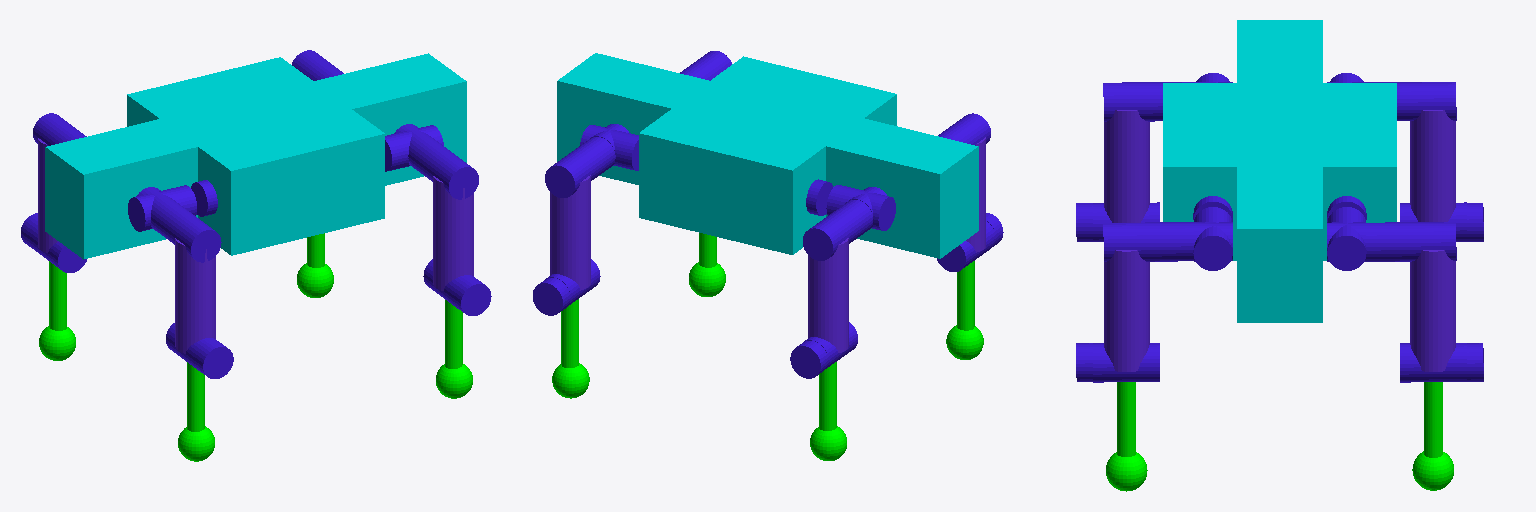
--- Facts derived from the render (not from the file) ---
3 views of the same robot in one strip: view 1: azimuth 30°, elevation 25°; view 2: azimuth 150°, elevation 25°; view 3: azimuth 270°, elevation 25° (orthographic).
Model openMutt with 46 links and 45 joints (12 revolute, 33 fixed), rooted at base_link, posed all joints at 0.
Visible links, largest first — view 1: base_link, dogBodyCross, backRightFemur, frontRightFemur, frontRightHipRotateY, backRightHipRotateY, backRightHipRotateX, backRightShin, backLeftShin, frontRightShin, frontRightHipRotateX, backRightKneeClevis (+13 smaller); view 2: base_link, dogBodyCross, backLeftFemur, frontLeftFemur, frontLeftHipRotateY, backLeftHipRotateY, backLeftHipRotateX, frontLeftHipRotateX, backRightShin, backLeftShin, frontLeftShin, backLeftKneeClevis (+13 smaller); view 3: base_link, dogBodyCross, frontLeftFemur, frontRightFemur, backRightFemur, backLeftFemur, frontRightHipRotateY, frontLeftHipRotateY, backRightHipRotateY, backLeftHipRotateY, frontLeftHipRotateX, frontRightHipRotateX (+12 smaller).
Link boxes in pixels (<box>): base_link: <box>45,53,466,259</box>; dogBodyCross: <box>127,57,384,255</box>; backRightFemur: <box>175,238,215,353</box>; frontRightFemur: <box>433,176,473,290</box>; frontRightHipRotateY: <box>408,129,478,199</box>; backRightHipRotateY: <box>151,192,221,262</box>; backRightHipRotateX: <box>128,185,196,231</box>; backRightShin: <box>187,362,204,431</box>; backLeftShin: <box>49,261,66,330</box>; frontRightShin: <box>445,300,462,368</box>; frontRightHipRotateX: <box>385,125,443,171</box>; backRightKneeClevis: <box>196,341,233,378</box>; base_link: <box>557,53,978,258</box>; dogBodyCross: <box>639,56,896,254</box>; backLeftFemur: <box>808,238,848,352</box>; frontLeftFemur: <box>550,175,590,290</box>; frontLeftHipRotateY: <box>545,137,615,197</box>; backLeftHipRotateY: <box>803,200,872,260</box>; backLeftHipRotateX: <box>826,185,895,230</box>; frontLeftHipRotateX: <box>580,125,638,170</box>; backRightShin: <box>957,261,974,330</box>; backLeftShin: <box>819,362,836,430</box>; frontLeftShin: <box>561,299,578,367</box>; backLeftKneeClevis: <box>790,341,827,378</box>; base_link: <box>1237,20,1322,322</box>; dogBodyCross: <box>1163,83,1396,260</box>; frontLeftFemur: <box>1410,250,1455,371</box>; frontRightFemur: <box>1104,250,1149,371</box>; backRightFemur: <box>1104,110,1149,222</box>; backLeftFemur: <box>1410,110,1455,221</box>; frontRightHipRotateY: <box>1103,222,1215,261</box>; frontLeftHipRotateY: <box>1364,222,1456,261</box>; backRightHipRotateY: <box>1103,82,1215,121</box>; backLeftHipRotateY: <box>1366,82,1456,120</box>; frontLeftHipRotateX: <box>1327,207,1366,270</box>; frontRightHipRotateX: <box>1193,207,1232,270</box>.
Bounding box of the posed robot: 0.752 × 0.6216 × 0.4955 m (x, y, z).
0 mesh visuals loaded from 2 distinct referenced files (none loaded); not drawn: 2 (reference not matched to a file when rendering).

URDF robot description (openMutt):
<?xml version="1.0" ?>
<!-- =================================================================================== -->
<!-- |    This document was autogenerated by xacro from RoboFrencwfShinWalker.urdf.xacro | -->
<!-- |    EDITING THIS FILE BY HAND IS NOT RECOMMENDED                                 | -->
<!-- =================================================================================== -->
<robot name="openMutt">
  <!-- DAWG BODY -->
  <!-- DAWG BODY LAWNG -->
  <link name="base_link">
    <visual>
      <origin rpy="0 0 0" xyz="0 0 0"/>
      <axis xyz="0 0 0"/>
      <geometry>
        <box size="0.752 0.13 0.159"/>
      </geometry>
      <material name="c">
        <color rgba="0 0.9 0.9 1.0"/>
      </material>
    </visual>
    <collision>
      <origin rpy="0 0 0" xyz="0 0 0"/>
      <axis xyz="0 0 0"/>
      <geometry>
        <box size="0.752 0.13 0.159"/>
      </geometry>
    </collision>
  </link>
  <link name="faux_base_link">
    <inertial>
      <mass value="7"/>
      <inertia ixx=".0246" ixy="0.0" ixz="0.0" iyy=".345" iyz="0.0" izz="1.0"/>
      <origin rpy="0 0 0" xyz="0 0 0"/>
    </inertial>
  </link>
  <joint name="baseInertia" type="fixed">
    <parent link="base_link"/>
    <child link="faux_base_link"/>
    <origin rpy="0 0 0" xyz="0 0 0"/>
  </joint>
  <!-- DAWG BODY CHONK -->
  <link name="dogBodyCross">
    <inertial>
      <mass value="0.4"/>
      <inertia ixx="0.005067233333333333" ixy="0.0" ixz="0.0" iyy="0.003882833333333333" iyz="0.0" izz="0.007264666666666666"/>
    </inertial>
    <visual>
      <origin rpy="0 0 0" xyz="0 0 0"/>
      <axis xyz="0 0 0"/>
      <geometry>
        <box size="0.302 0.356 0.159"/>
      </geometry>
      <material name="c">
        <color rgba="0 0.9 0.9 1.0"/>
      </material>
    </visual>
    <collision>
      <origin rpy="0 0 0" xyz="0 0 0"/>
      <axis xyz="0 0 0"/>
      <geometry>
        <box size="0.302 0.356 0.159"/>
      </geometry>
    </collision>
  </link>
  <joint name="DawgBodyMaker" type="fixed">
    <parent link="base_link"/>
    <child link="dogBodyCross"/>
    <origin rpy="0 0 0" xyz="0 0 0"/>
  </joint>
  <!--prefix is the legnumber, xReflext is  a 1 or -1 and same with yReflect this just mkaes it swtich locations for all 4 quadrents but why are you reading this is you arent me, if youre this deep in you got yourself in trouble run before its too late... I mean seriously I am writing an essay here stop scrolling to the side just keep reading the code and ignore the comments or I guess this one, some are helpful this one was until you got too nosy-->
  <link name="frontRightHipBoxJointBearing">
    <inertial>
      <mass value="0.001"/>
      <inertia ixx="1.5e-07" ixy="0.0" ixz="0.0" iyy="2.0833333333333333e-07" iyz="0.0" izz="2.0833333333333333e-07"/>
    </inertial>
    <visual>
      <origin rpy="0 1.5809  0" xyz="0.151 -0.102 0"/>
      <axis xyz="0 0 0"/>
      <geometry>
        <cylinder length="0.04" radius="0.03"/>
      </geometry>
      <material name="Cyan1">
        <color rgba="0.3 0.15 0.9 1.0"/>
      </material>
    </visual>
    <collision>
      <origin rpy="0 1.5809  0" xyz="0.151 -0.102 0"/>
      <axis xyz="0 0 0"/>
      <geometry>
        <cylinder length="0.04" radius="0.03"/>
      </geometry>
    </collision>
  </link>
  <joint name="frontRightBodyHipBoxFixedBearing" type="fixed">
    <parent link="dogBodyCross"/>
    <child link="frontRightHipBoxJointBearing"/>
    <origin rpy="0 0 0" xyz="0 0 0"/>
  </joint>
  <!--X rotator allows for internal and external rotation-->
  <link name="frontRightHipRotateX">
    <inertial>
      <mass value="0.3"/>
      <inertia ixx="4.4999999999999996e-05" ixy="0.0" ixz="0.0" iyy="0.00028259999999999993" iyz="0.0" izz="0.00028259999999999993"/>
    </inertial>
    <visual>
      <origin rpy="0 1.5809 0" xyz="0.242 0 0"/>
      <axis xyz="0 0 0"/>
      <geometry>
        <cylinder length="0.102" radius="0.03"/>
      </geometry>
      <material name="Cyan1">
        <color rgba="0.3 0.15 0.9 1.0"/>
      </material>
    </visual>
    <collision>
      <origin rpy="0 1.5809 0" xyz="0.242 0 0"/>
      <axis xyz="0 0 0"/>
      <geometry>
        <cylinder length="0.102" radius="0.03"/>
      </geometry>
    </collision>
  </link>
  <!--Joint from This Bone to the Main Body-->
  <joint name="frontRightHipRotateXJoint" type="revolute">
    <parent link="frontRightHipBoxJointBearing"/>
    <child link="frontRightHipRotateX"/>
    <origin rpy="0 0 0" xyz="0 -0.102 0"/>
    <axis xyz="1 0 0"/>
    <limit effort="150" lower="-3.14159265359" upper="3.14159265359" velocity="1.5"/>
    <sensor name="frontRightHipRotateXJoint_torque" type="force_torque">
      <update_rate>30</update_rate>
    </sensor>
  </joint>
  <!--GazeboControls-->
  <transmission name="frontRighttran1">
    <type>transmission_interface/SimpleTransmission</type>
    <joint name="frontRightHipRotateXJoint">
      <hardwareInterface>hardware_interface/EffortJointInterface</hardwareInterface>
    </joint>
    <actuator name="frontRightmotor1">
      <hardwareInterface>hardware_interface/EffortJointInterface</hardwareInterface>
      <mechanicalReduction>1</mechanicalReduction>
    </actuator>
  </transmission>
  <!--Time to construct the hip box, makes me want to throw thousands into the march madness tournament, it will end differently this time I swear, massive value in the next Kentucky points over-->
  <!--Y block-->
  <link name="frontRightHipYBlock">
    <inertial>
      <mass value="0.001"/>
      <inertia ixx="1.5e-07" ixy="0.0" ixz="0.0" iyy="3.7499999999999996e-07" iyz="0.0" izz="3.7499999999999996e-07"/>
    </inertial>
    <visual>
      <origin rpy="1.5809 0 0" xyz="0.253 0 0"/>
      <axis xyz="0 0 0"/>
      <geometry>
        <cylinder length="0.06" radius="0.03"/>
      </geometry>
      <material name="Cyan1">
        <color rgba="0.3 0.15 0.9 1.0"/>
      </material>
    </visual>
    <collision>
      <origin rpy="0 0 0" xyz="0.253 0 0"/>
      <axis xyz="0 0 0"/>
      <geometry>
        <cylinder length="0.06" radius="0.03"/>
      </geometry>
    </collision>
  </link>
  <joint name="frontRightBodyHipBoxYAttach" type="fixed">
    <parent link="frontRightHipRotateX"/>
    <child link="frontRightHipYBlock"/>
    <origin rpy="0 0 0" xyz="0 0 0"/>
  </joint>
  <!--Y rotator allows for elevation and declanation rotation-->
  <link name="frontRightHipRotateY">
    <inertial>
      <mass value="0.5"/>
      <inertia ixx="7.5e-05" ixy="0.0" ixz="0.0" iyy="0.0012701666666666664" iyz="0.0" izz="0.0012701666666666664"/>
    </inertial>
    <visual>
      <origin rpy="1.5809 0 0" xyz="0 -0.03 0"/>
      <axis xyz="0 0 0"/>
      <geometry>
        <cylinder length="0.172" radius="0.03"/>
      </geometry>
      <material name="Cyan1">
        <color rgba="0.3 0.15 0.9 1.0"/>
      </material>
    </visual>
    <collision>
      <origin rpy="1.5809 0 0" xyz="0 -0.03 0"/>
      <axis xyz="0 0 0"/>
      <geometry>
        <cylinder length="0.102" radius="0.03"/>
      </geometry>
    </collision>
  </link>
  <joint name="frontRightHipRotateYJoint" type="revolute">
    <origin rpy="0 0 0" xyz="0.253 -0.051 0"/>
    <parent link="frontRightHipYBlock"/>
    <child link="frontRightHipRotateY"/>
    <axis xyz="0 1 0"/>
    <limit effort="150" lower="-3.14159265359" upper="3.14159265359" velocity="1.5"/>
    <sensor name="frontRightHipRotateYJoint_torque" type="force_torque">
      <update_rate>30</update_rate>
    </sensor>
  </joint>
  <!--GazeboControls-->
  <transmission name="frontRighttran2">
    <type>transmission_interface/SimpleTransmission</type>
    <joint name="frontRightHipRotateYJoint">
      <hardwareInterface>hardware_interface/EffortJointInterface</hardwareInterface>
    </joint>
    <actuator name="frontRightmotor2">
      <hardwareInterface>hardware_interface/EffortJointInterface</hardwareInterface>
      <mechanicalReduction>1</mechanicalReduction>
    </actuator>
  </transmission>
  <!--  hip bone is like the femur   -->
  <link name="frontRightFemur">
    <inertial>
      <mass value="0.3"/>
      <inertia ixx="6.125e-05" ixy="0.0" ixz="0.0" iyy="0.00106085" iyz="0.0" izz="0.00106085"/>
    </inertial>
    <visual>
      <origin rpy="0 0 0" xyz="0 -0.08099999999999999 -0.1015"/>
      <axis xyz="0 0 0"/>
      <geometry>
        <cylinder length="0.203" radius="0.035"/>
      </geometry>
      <material name="Cyan2">
        <color rgba="0.4 0.2 0.9 1.0"/>
      </material>
    </visual>
    <collision>
      <origin rpy="0 0 0" xyz="0 -0.08099999999999999 -0.1015"/>
      <axis xyz="0 0 0"/>
      <geometry>
        <cylinder length="0.203" radius="0.035"/>
      </geometry>
    </collision>
  </link>
  <joint name="frontRightFemurToHip" type="fixed">
    <parent link="frontRightHipRotateY"/>
    <child link="frontRightFemur"/>
    <origin rpy="0 0 0" xyz="0 0 0"/>
  </joint>
  <!--knee clevis-->
  <link name="frontRightKneeClevis">
    <inertial>
      <mass value="0.0001"/>
      <inertia ixx="1.5e-08" ixy="0.0" ixz="0.0" iyy="1.2918750000000001e-08" iyz="0.0" izz="1.2918750000000001e-08"/>
    </inertial>
    <visual>
      <origin rpy="1.5809 0 0" xyz="0 -0.14475000000000002 -0.203"/>
      <axis xyz="0 0 0"/>
      <geometry>
        <cylinder length="0.0255" radius="0.03"/>
      </geometry>
      <material name="Cyan1">
        <color rgba="0.3 0.15 0.9 1.0"/>
      </material>
    </visual>
    <collision>
      <origin rpy="1.5809 0 0" xyz="0 -0.14475000000000002 -0.203"/>
      <axis xyz="0 0 0"/>
      <geometry>
        <cylinder length="0.0255" radius="0.03"/>
      </geometry>
    </collision>
  </link>
  <joint name="frontRightKneeClevisFix" type="fixed">
    <origin rpy="0 0 0" xyz="0 0 0"/>
    <parent link="frontRightFemur"/>
    <child link="frontRightKneeClevis"/>
  </joint>
  <!--knee!-->
  <link name="frontRightKnee">
    <inertial>
      <mass value="0.01"/>
      <inertia ixx="1.4999999999999998e-06" ixy="0.0" ixz="0.0" iyy="9.419999999999998e-06" iyz="0.0" izz="9.419999999999998e-06"/>
    </inertial>
    <visual>
      <origin rpy="1.5809 0 0" xyz="0 -0.08099999999999999 0"/>
      <axis xyz="0 0 0"/>
      <geometry>
        <cylinder length="0.102" radius="0.03"/>
      </geometry>
      <material name="Cyan1">
        <color rgba="0.3 0.15 0.9 1.0"/>
      </material>
    </visual>
    <collision>
      <origin rpy="1.5809 0 0" xyz="0 -0.08099999999999999 0"/>
      <axis xyz="0 0 0"/>
      <geometry>
        <cylinder length="0.102" radius="0.03"/>
      </geometry>
    </collision>
  </link>
  <joint name="frontRightKneeJoint" type="revolute">
    <origin rpy="0 0 0" xyz="0 0 -0.203"/>
    <parent link="frontRightKneeClevis"/>
    <child link="frontRightKnee"/>
    <axis xyz="0 1 0"/>
    <limit effort="150" lower="-3.14159265359" upper="3.14159265359" velocity="1.5"/>
    <sensor name="frontRightKneeJoint_torque" type="force_torque">
      <update_rate>30</update_rate>
      <visualize>true</visualize>
      <always_on>true</always_on>
    </sensor>
  </joint>
  <!--GazeboControls-->
  <transmission name="frontRighttran3">
    <type>transmission_interface/SimpleTransmission</type>
    <joint name="frontRightKneeJoint">
      <hardwareInterface>hardware_interface/EffortJointInterface</hardwareInterface>
    </joint>
    <actuator name="frontRightmotor3">
      <hardwareInterface>hardware_interface/EffortJointInterface</hardwareInterface>
      <mechanicalReduction>1</mechanicalReduction>
    </actuator>
  </transmission>
  <!--Shin!-->
  <link name="frontRightShin">
    <inertial>
      <mass value="0.3"/>
      <inertia ixx="1.1249999999999999e-05" ixy="0.0" ixz="0.0" iyy="0.00068625" iyz="0.0" izz="0.00068625"/>
    </inertial>
    <visual>
      <origin rpy="0 0 0" xyz="0 -0.08099999999999999 -0.0825"/>
      <axis xyz="0 0 0"/>
      <geometry>
        <cylinder length="0.165" radius="0.015"/>
      </geometry>
      <material name="Green">
        <color rgba="0 1 0 1"/>
      </material>
    </visual>
    <collision>
      <origin rpy="0 0 0" xyz="0 -0.08099999999999999 -0.0825"/>
      <axis xyz="0 0 0"/>
      <geometry>
        <cylinder length="0.165" radius="0.015"/>
      </geometry>
    </collision>
  </link>
  <joint name="frontRightKneeToShin" type="fixed">
    <parent link="frontRightKnee"/>
    <child link="frontRightShin"/>
    <origin rpy="0 0 0" xyz="0 0 0"/>
  </joint>
  <!--FOOOOOOT-->
  <link name="frontRightFoot">
    <inertial>
      <mass value="0.126"/>
      <inertia ixx="2.1503999999999996e-05" ixy="0.0" ixz="0.0" iyy="2.1503999999999996e-05" iyz="0.0" izz="2.1503999999999996e-05"/>
    </inertial>
    <visual>
      <origin rpy="0 0 0" xyz="0 -0.08099999999999999 0"/>
      <geometry>
        <sphere radius="0.032"/>
      </geometry>
      <material name="Green">
        <color rgba="0 1 0 1"/>
      </material>
    </visual>
    <collision>
      <origin rpy="0 0 0" xyz="0 -0.08099999999999999 0"/>
      <geometry>
        <sphere radius="0.032"/>
      </geometry>
    </collision>
  </link>
  <gazebo reference="frontRightShin">
    <kp>1000000.0</kp>
    <kd>1.0</kd>
    <mu1>.8</mu1>
    <mu2>.8</mu2>
    <maxVel>0.0</maxVel>
    <minDepth>0.003</minDepth>
  </gazebo>
  <joint name="frontRightShinToFoot" type="fixed">
    <parent link="frontRightShin"/>
    <child link="frontRightFoot"/>
    <origin rpy="0 0 0.016" xyz="0 0 -0.181"/>
  </joint>
  <!--prefix is the legnumber, xReflext is  a 1 or -1 and same with yReflect this just mkaes it swtich locations for all 4 quadrents but why are you reading this is you arent me, if youre this deep in you got yourself in trouble run before its too late... I mean seriously I am writing an essay here stop scrolling to the side just keep reading the code and ignore the comments or I guess this one, some are helpful this one was until you got too nosy-->
  <link name="frontLeftHipBoxJointBearing">
    <inertial>
      <mass value="0.001"/>
      <inertia ixx="1.5e-07" ixy="0.0" ixz="0.0" iyy="2.0833333333333333e-07" iyz="0.0" izz="2.0833333333333333e-07"/>
    </inertial>
    <visual>
      <origin rpy="0 1.5809  0" xyz="0.151 0.102 0"/>
      <axis xyz="0 0 0"/>
      <geometry>
        <cylinder length="0.04" radius="0.03"/>
      </geometry>
      <material name="Cyan1">
        <color rgba="0.3 0.15 0.9 1.0"/>
      </material>
    </visual>
    <collision>
      <origin rpy="0 1.5809  0" xyz="0.151 0.102 0"/>
      <axis xyz="0 0 0"/>
      <geometry>
        <cylinder length="0.04" radius="0.03"/>
      </geometry>
    </collision>
  </link>
  <joint name="frontLeftBodyHipBoxFixedBearing" type="fixed">
    <parent link="dogBodyCross"/>
    <child link="frontLeftHipBoxJointBearing"/>
    <origin rpy="0 0 0" xyz="0 0 0"/>
  </joint>
  <!--X rotator allows for internal and external rotation-->
  <link name="frontLeftHipRotateX">
    <inertial>
      <mass value="0.3"/>
      <inertia ixx="4.4999999999999996e-05" ixy="0.0" ixz="0.0" iyy="0.00028259999999999993" iyz="0.0" izz="0.00028259999999999993"/>
    </inertial>
    <visual>
      <origin rpy="0 1.5809 0" xyz="0.242 0 0"/>
      <axis xyz="0 0 0"/>
      <geometry>
        <cylinder length="0.102" radius="0.03"/>
      </geometry>
      <material name="Cyan1">
        <color rgba="0.3 0.15 0.9 1.0"/>
      </material>
    </visual>
    <collision>
      <origin rpy="0 1.5809 0" xyz="0.242 0 0"/>
      <axis xyz="0 0 0"/>
      <geometry>
        <cylinder length="0.102" radius="0.03"/>
      </geometry>
    </collision>
  </link>
  <!--Joint from This Bone to the Main Body-->
  <joint name="frontLeftHipRotateXJoint" type="revolute">
    <parent link="frontLeftHipBoxJointBearing"/>
    <child link="frontLeftHipRotateX"/>
    <origin rpy="0 0 0" xyz="0 0.102 0"/>
    <axis xyz="1 0 0"/>
    <limit effort="150" lower="-3.14159265359" upper="3.14159265359" velocity="1.5"/>
    <sensor name="frontLeftHipRotateXJoint_torque" type="force_torque">
      <update_rate>30</update_rate>
    </sensor>
  </joint>
  <!--GazeboControls-->
  <transmission name="frontLefttran1">
    <type>transmission_interface/SimpleTransmission</type>
    <joint name="frontLeftHipRotateXJoint">
      <hardwareInterface>hardware_interface/EffortJointInterface</hardwareInterface>
    </joint>
    <actuator name="frontLeftmotor1">
      <hardwareInterface>hardware_interface/EffortJointInterface</hardwareInterface>
      <mechanicalReduction>1</mechanicalReduction>
    </actuator>
  </transmission>
  <!--Time to construct the hip box, makes me want to throw thousands into the march madness tournament, it will end differently this time I swear, massive value in the next Kentucky points over-->
  <!--Y block-->
  <link name="frontLeftHipYBlock">
    <inertial>
      <mass value="0.001"/>
      <inertia ixx="1.5e-07" ixy="0.0" ixz="0.0" iyy="3.7499999999999996e-07" iyz="0.0" izz="3.7499999999999996e-07"/>
    </inertial>
    <visual>
      <origin rpy="1.5809 0 0" xyz="0.253 0 0"/>
      <axis xyz="0 0 0"/>
      <geometry>
        <cylinder length="0.06" radius="0.03"/>
      </geometry>
      <material name="Cyan1">
        <color rgba="0.3 0.15 0.9 1.0"/>
      </material>
    </visual>
    <collision>
      <origin rpy="0 0 0" xyz="0.253 0 0"/>
      <axis xyz="0 0 0"/>
      <geometry>
        <cylinder length="0.06" radius="0.03"/>
      </geometry>
    </collision>
  </link>
  <joint name="frontLeftBodyHipBoxYAttach" type="fixed">
    <parent link="frontLeftHipRotateX"/>
    <child link="frontLeftHipYBlock"/>
    <origin rpy="0 0 0" xyz="0 0 0"/>
  </joint>
  <!--Y rotator allows for elevation and declanation rotation-->
  <link name="frontLeftHipRotateY">
    <inertial>
      <mass value="0.5"/>
      <inertia ixx="7.5e-05" ixy="0.0" ixz="0.0" iyy="0.0012701666666666664" iyz="0.0" izz="0.0012701666666666664"/>
    </inertial>
    <visual>
      <origin rpy="1.5809 0 0" xyz="0 0.03 0"/>
      <axis xyz="0 0 0"/>
      <geometry>
        <cylinder length="0.172" radius="0.03"/>
      </geometry>
      <material name="Cyan1">
        <color rgba="0.3 0.15 0.9 1.0"/>
      </material>
    </visual>
    <collision>
      <origin rpy="1.5809 0 0" xyz="0 0.03 0"/>
      <axis xyz="0 0 0"/>
      <geometry>
        <cylinder length="0.102" radius="0.03"/>
      </geometry>
    </collision>
  </link>
  <joint name="frontLeftHipRotateYJoint" type="revolute">
    <origin rpy="0 0 0" xyz="0.253 0.051 0"/>
    <parent link="frontLeftHipYBlock"/>
    <child link="frontLeftHipRotateY"/>
    <axis xyz="0 1 0"/>
    <limit effort="150" lower="-3.14159265359" upper="3.14159265359" velocity="1.5"/>
    <sensor name="frontLeftHipRotateYJoint_torque" type="force_torque">
      <update_rate>30</update_rate>
    </sensor>
  </joint>
  <!--GazeboControls-->
  <transmission name="frontLefttran2">
    <type>transmission_interface/SimpleTransmission</type>
    <joint name="frontLeftHipRotateYJoint">
      <hardwareInterface>hardware_interface/EffortJointInterface</hardwareInterface>
    </joint>
    <actuator name="frontLeftmotor2">
      <hardwareInterface>hardware_interface/EffortJointInterface</hardwareInterface>
      <mechanicalReduction>1</mechanicalReduction>
    </actuator>
  </transmission>
  <!--  hip bone is like the femur   -->
  <link name="frontLeftFemur">
    <inertial>
      <mass value="0.3"/>
      <inertia ixx="6.125e-05" ixy="0.0" ixz="0.0" iyy="0.00106085" iyz="0.0" izz="0.00106085"/>
    </inertial>
    <visual>
      <origin rpy="0 0 0" xyz="0 0.08099999999999999 -0.1015"/>
      <axis xyz="0 0 0"/>
      <geometry>
        <cylinder length="0.203" radius="0.035"/>
      </geometry>
      <material name="Cyan2">
        <color rgba="0.4 0.2 0.9 1.0"/>
      </material>
    </visual>
    <collision>
      <origin rpy="0 0 0" xyz="0 0.08099999999999999 -0.1015"/>
      <axis xyz="0 0 0"/>
      <geometry>
        <cylinder length="0.203" radius="0.035"/>
      </geometry>
    </collision>
  </link>
  <joint name="frontLeftFemurToHip" type="fixed">
    <parent link="frontLeftHipRotateY"/>
    <child link="frontLeftFemur"/>
    <origin rpy="0 0 0" xyz="0 0 0"/>
  </joint>
  <!--knee clevis-->
  <link name="frontLeftKneeClevis">
    <inertial>
      <mass value="0.0001"/>
      <inertia ixx="1.5e-08" ixy="0.0" ixz="0.0" iyy="1.2918750000000001e-08" iyz="0.0" izz="1.2918750000000001e-08"/>
    </inertial>
    <visual>
      <origin rpy="1.5809 0 0" xyz="0 0.14475000000000002 -0.203"/>
      <axis xyz="0 0 0"/>
      <geometry>
        <cylinder length="0.0255" radius="0.03"/>
      </geometry>
      <material name="Cyan1">
        <color rgba="0.3 0.15 0.9 1.0"/>
      </material>
    </visual>
    <collision>
      <origin rpy="1.5809 0 0" xyz="0 0.14475000000000002 -0.203"/>
      <axis xyz="0 0 0"/>
      <geometry>
        <cylinder length="0.0255" radius="0.03"/>
      </geometry>
    </collision>
  </link>
  <joint name="frontLeftKneeClevisFix" type="fixed">
    <origin rpy="0 0 0" xyz="0 0 0"/>
    <parent link="frontLeftFemur"/>
    <child link="frontLeftKneeClevis"/>
  </joint>
  <!--knee!-->
  <link name="frontLeftKnee">
    <inertial>
      <mass value="0.01"/>
      <inertia ixx="1.4999999999999998e-06" ixy="0.0" ixz="0.0" iyy="9.419999999999998e-06" iyz="0.0" izz="9.419999999999998e-06"/>
    </inertial>
    <visual>
      <origin rpy="1.5809 0 0" xyz="0 0.08099999999999999 0"/>
      <axis xyz="0 0 0"/>
      <geometry>
        <cylinder length="0.102" radius="0.03"/>
      </geometry>
      <material name="Cyan1">
        <color rgba="0.3 0.15 0.9 1.0"/>
      </material>
    </visual>
    <collision>
      <origin rpy="1.5809 0 0" xyz="0 0.08099999999999999 0"/>
      <axis xyz="0 0 0"/>
      <geometry>
        <cylinder length="0.102" radius="0.03"/>
      </geometry>
    </collision>
  </link>
  <joint name="frontLeftKneeJoint" type="revolute">
    <origin rpy="0 0 0" xyz="0 0 -0.203"/>
    <parent link="frontLeftKneeClevis"/>
    <child link="frontLeftKnee"/>
    <axis xyz="0 1 0"/>
    <limit effort="150" lower="-3.14159265359" upper="3.14159265359" velocity="1.5"/>
    <sensor name="frontLeftKneeJoint_torque" type="force_torque">
      <update_rate>30</update_rate>
    </sensor>
  </joint>
  <!--GazeboControls-->
  <transmission name="frontLefttran3">
    <type>transmission_interface/SimpleTransmission</type>
    <joint name="frontLeftKneeJoint">
      <hardwareInterface>hardware_interface/EffortJointInterface</hardwareInterface>
    </joint>
    <actuator name="frontLeftmotor3">
      <hardwareInterface>hardware_interface/EffortJointInterface</hardwareInterface>
      <mechanicalReduction>1</mechanicalReduction>
    </actuator>
  </transmission>
  <!--Shin!-->
  <link name="frontLeftShin">
    <inertial>
      <mass value="0.3"/>
      <inertia ixx="1.1249999999999999e-05" ixy="0.0" ixz="0.0" iyy="0.00068625" iyz="0.0" izz="0.00068625"/>
    </inertial>
    <visual>
      <origin rpy="0 0 0" xyz="0 0.08099999999999999 -0.0825"/>
      <axis xyz="0 0 0"/>
      <geometry>
        <cylinder length="0.165" radius="0.015"/>
      </geometry>
      <material name="Green">
        <color rgba="0 1 0 1"/>
      </material>
    </visual>
    <collision>
      <origin rpy="0 0 0" xyz="0 0.08099999999999999 -0.0825"/>
      <axis xyz="0 0 0"/>
      <geometry>
        <cylinder length="0.165" radius="0.015"/>
      </geometry>
    </collision>
  </link>
  <joint name="frontLeftKneeToShin" type="fixed">
    <parent link="frontLeftKnee"/>
    <child link="frontLeftShin"/>
    <origin rpy="0 0 0" xyz="0 0 0"/>
  </joint>
  <!--FOOOOOOT-->
  <link name="frontLeftFoot">
    <inertial>
      <mass value="0.126"/>
      <inertia ixx="2.1503999999999996e-05" ixy="0.0" ixz="0.0" iyy="2.1503999999999996e-05" iyz="0.0" izz="2.1503999999999996e-05"/>
    </inertial>
    <visual>
      <origin rpy="0 0 0" xyz="0 0.08099999999999999 0"/>
      <geometry>
        <sphere radius="0.032"/>
      </geometry>
      <material name="Green">
        <color rgba="0 1 0 1"/>
      </material>
    </visual>
    <collision>
      <origin rpy="0 0 0" xyz="0 0.08099999999999999 0"/>
      <geometry>
        <sphere radius="0.032"/>
      </geometry>
    </collision>
  </link>
  <gazebo reference="frontLeftShin">
    <kp>1000000.0</kp>
    <kd>1.0</kd>
    <mu1>.8</mu1>
    <mu2>.8</mu2>
    <maxVel>0.0</maxVel>
    <minDepth>0.003</minDepth>
  </gazebo>
  <joint name="frontLeftShinToFoot" type="fixed">
    <parent link="frontLeftShin"/>
    <child link="frontLeftFoot"/>
    <origin rpy="0 0 0.016" xyz="0 0 -0.181"/>
  </joint>
  <!--prefix is the legnumber, xReflext is  a 1 or -1 and same with yReflect this just mkaes it swtich locations for all 4 quadrents but why are you reading this is you arent me, if youre this deep in you got yourself in trouble run before its too late... I mean seriously I am writing an essay here stop scrolling to the side just keep reading the code and ignore the comments or I guess this one, some are helpful this one was until you got too nosy-->
  <link name="backRightHipBoxJointBearing">
    <inertial>
      <mass value="0.001"/>
      <inertia ixx="1.5e-07" ixy="0.0" ixz="0.0" iyy="2.0833333333333333e-07" iyz="0.0" izz="2.0833333333333333e-07"/>
    </inertial>
    <visual>
      <origin rpy="0 1.5809  0" xyz="-0.151 -0.102 0"/>
      <axis xyz="0 0 0"/>
      <geometry>
        <cylinder length="0.04" radius="0.03"/>
      </geometry>
      <material name="Cyan1">
        <color rgba="0.3 0.15 0.9 1.0"/>
      </material>
    </visual>
    <collision>
      <origin rpy="0 1.5809  0" xyz="-0.151 -0.102 0"/>
      <axis xyz="0 0 0"/>
      <geometry>
        <cylinder length="0.04" radius="0.03"/>
      </geometry>
    </collision>
  </link>
  <joint name="backRightBodyHipBoxFixedBearing" type="fixed">
    <parent link="dogBodyCross"/>
    <child link="backRightHipBoxJointBearing"/>
    <origin rpy="0 0 0" xyz="0 0 0"/>
  </joint>
  <!--X rotator allows for internal and external rotation-->
  <link name="backRightHipRotateX">
    <inertial>
      <mass value="0.3"/>
      <inertia ixx="4.4999999999999996e-05" ixy="0.0" ixz="0.0" iyy="0.00028259999999999993" iyz="0.0" izz="0.00028259999999999993"/>
    </inertial>
    <visual>
      <origin rpy="0 1.5809 0" xyz="-0.242 0 0"/>
      <axis xyz="0 0 0"/>
      <geometry>
        <cylinder length="0.102" radius="0.03"/>
      </geometry>
      <material name="Cyan1">
        <color rgba="0.3 0.15 0.9 1.0"/>
      </material>
    </visual>
    <collision>
      <origin rpy="0 1.5809 0" xyz="-0.242 0 0"/>
      <axis xyz="0 0 0"/>
      <geometry>
        <cylinder length="0.102" radius="0.03"/>
      </geometry>
    </collision>
  </link>
  <!--Joint from This Bone to the Main Body-->
  <joint name="backRightHipRotateXJoint" type="revolute">
    <parent link="backRightHipBoxJointBearing"/>
    <child link="backRightHipRotateX"/>
    <origin rpy="0 0 0" xyz="0 -0.102 0"/>
    <axis xyz="1 0 0"/>
    <limit effort="150" lower="-3.14159265359" upper="3.14159265359" velocity="1.5"/>
    <sensor name="backRightHipRotateXJoint_torque" type="force_torque">
      <update_rate>30</update_rate>
    </sensor>
  </joint>
  <!--GazeboControls-->
  <transmission name="backRighttran1">
    <type>transmission_interface/SimpleTransmission</type>
    <joint name="backRightHipRotateXJoint">
      <hardwareInterface>hardware_interface/EffortJointInterface</hardwareInterface>
    </joint>
    <actuator name="backRightmotor1">
      <hardwareInterface>hardware_interface/EffortJointInterface</hardwareInterface>
      <mechanicalReduction>1</mechanicalReduction>
    </actuator>
  </transmission>
  <!--Time to construct the hip box, makes me want to throw thousands into the march madness tournament, it will end differently this time I swear, massive value in the next Kentucky points over-->
  <!--Y block-->
  <link name="backRightHipYBlock">
    <inertial>
      <mass value="0.001"/>
      <inertia ixx="1.5e-07" ixy="0.0" ixz="0.0" iyy="3.7499999999999996e-07" iyz="0.0" izz="3.7499999999999996e-07"/>
    </inertial>
    <visual>
      <origin rpy="1.5809 0 0" xyz="-0.253 0 0"/>
      <axis xyz="0 0 0"/>
      <geometry>
        <cylinder length="0.06" radius="0.03"/>
      </geometry>
      <material name="Cyan1">
        <color rgba="0.3 0.15 0.9 1.0"/>
      </material>
    </visual>
    <collision>
      <origin rpy="0 0 0" xyz="-0.253 0 0"/>
      <axis xyz="0 0 0"/>
      <geometry>
        <cylinder length="0.06" radius="0.03"/>
      </geometry>
    </collision>
  </link>
  <joint name="backRightBodyHipBoxYAttach" type="fixed">
    <parent link="backRightHipRotateX"/>
    <child link="backRightHipYBlock"/>
    <origin rpy="0 0 0" xyz="0 0 0"/>
  </joint>
  <!--Y rotator allows for elevation and declanation rotation-->
  <link name="backRightHipRotateY">
    <inertial>
      <mass value="0.5"/>
      <inertia ixx="7.5e-05" ixy="0.0" ixz="0.0" iyy="0.0012701666666666664" iyz="0.0" izz="0.0012701666666666664"/>
    </inertial>
    <visual>
      <origin rpy="1.5809 0 0" xyz="0 -0.03 0"/>
      <axis xyz="0 0 0"/>
      <geometry>
        <cylinder length="0.172" radius="0.03"/>
      </geometry>
      <material name="Cyan1">
        <color rgba="0.3 0.15 0.9 1.0"/>
      </material>
    </visual>
    <collision>
      <origin rpy="1.5809 0 0" xyz="0 -0.03 0"/>
      <axis xyz="0 0 0"/>
      <geometry>
        <cylinder length="0.102" radius="0.03"/>
      </geometry>
    </collision>
  </link>
  <joint name="backRightHipRotateYJoint" type="revolute">
    <origin rpy="0 0 0" xyz="-0.253 -0.051 0"/>
    <parent link="backRightHipYBlock"/>
    <child link="backRightHipRotateY"/>
    <axis xyz="0 1 0"/>
    <limit effort="150" lower="-3.14159265359" upper="3.14159265359" velocity="1.5"/>
    <sensor name="backRightHipRotateYJoint_torque" type="force_torque">
      <update_rate>30</update_rate>
    </sensor>
  </joint>
  <!--GazeboControls-->
  <transmission name="backRighttran2">
    <type>transmission_interface/SimpleTransmission</type>
    <joint name="backRightHipRotateYJoint">
      <hardwareInterface>hardware_interface/EffortJointInterface</hardwareInterface>
    </joint>
    <actuator name="backRightmotor2">
      <hardwareInterface>hardware_interface/EffortJointInterface</hardwareInterface>
      <mechanicalReduction>1</mechanicalReduction>
    </actuator>
  </transmission>
  <!--  hip bone is like the femur   -->
  <link name="backRightFemur">
    <inertial>
      <mass value="0.3"/>
      <inertia ixx="6.125e-05" ixy="0.0" ixz="0.0" iyy="0.00106085" iyz="0.0" izz="0.00106085"/>
    </inertial>
    <visual>
      <origin rpy="0 0 0" xyz="0 -0.08099999999999999 -0.1015"/>
      <axis xyz="0 0 0"/>
      <geometry>
        <cylinder length="0.203" radius="0.035"/>
      </geometry>
      <material name="Cyan2">
        <color rgba="0.4 0.2 0.9 1.0"/>
      </material>
    </visual>
    <collision>
      <origin rpy="0 0 0" xyz="0 -0.08099999999999999 -0.1015"/>
      <axis xyz="0 0 0"/>
      <geometry>
        <cylinder length="0.203" radius="0.035"/>
      </geometry>
    </collision>
  </link>
  <joint name="backRightFemurToHip" type="fixed">
    <parent link="backRightHipRotateY"/>
    <child link="backRightFemur"/>
    <origin rpy="0 0 0" xyz="0 0 0"/>
  </joint>
  <!--knee clevis-->
  <link name="backRightKneeClevis">
    <inertial>
      <mass value="0.0001"/>
      <inertia ixx="1.5e-08" ixy="0.0" ixz="0.0" iyy="1.2918750000000001e-08" iyz="0.0" izz="1.2918750000000001e-08"/>
    </inertial>
    <visual>
      <origin rpy="1.5809 0 0" xyz="0 -0.14475000000000002 -0.203"/>
      <axis xyz="0 0 0"/>
      <geometry>
        <cylinder length="0.0255" radius="0.03"/>
      </geometry>
      <material name="Cyan1">
        <color rgba="0.3 0.15 0.9 1.0"/>
      </material>
    </visual>
    <collision>
      <origin rpy="1.5809 0 0" xyz="0 -0.14475000000000002 -0.203"/>
      <axis xyz="0 0 0"/>
      <geometry>
        <cylinder length="0.0255" radius="0.03"/>
      </geometry>
    </collision>
  </link>
  <joint name="backRightKneeClevisFix" type="fixed">
    <origin rpy="0 0 0" xyz="0 0 0"/>
    <parent link="backRightFemur"/>
    <child link="backRightKneeClevis"/>
  </joint>
  <!--knee!-->
  <link name="backRightKnee">
    <inertial>
      <mass value="0.01"/>
      <inertia ixx="1.4999999999999998e-06" ixy="0.0" ixz="0.0" iyy="9.419999999999998e-06" iyz="0.0" izz="9.419999999999998e-06"/>
    </inertial>
    <visual>
      <origin rpy="1.5809 0 0" xyz="0 -0.08099999999999999 0"/>
      <axis xyz="0 0 0"/>
      <geometry>
        <cylinder length="0.102" radius="0.03"/>
      </geometry>
      <material name="Cyan1">
        <color rgba="0.3 0.15 0.9 1.0"/>
      </material>
    </visual>
    <collision>
      <origin rpy="1.5809 0 0" xyz="0 -0.08099999999999999 0"/>
      <axis xyz="0 0 0"/>
      <geometry>
        <cylinder length="0.102" radius="0.03"/>
      </geometry>
    </collision>
  </link>
  <joint name="backRightKneeJoint" type="revolute">
    <origin rpy="0 0 0" xyz="0 0 -0.203"/>
    <parent link="backRightKneeClevis"/>
    <child link="backRightKnee"/>
    <axis xyz="0 1 0"/>
    <limit effort="150" lower="-3.14159265359" upper="3.14159265359" velocity="1.5"/>
    <sensor name="backRightKneeJoint_torque" type="force_torque">
      <update_rate>30</update_rate>
    </sensor>
  </joint>
  <!--GazeboControls-->
  <transmission name="backRighttran3">
    <type>transmission_interface/SimpleTransmission</type>
    <joint name="backRightKneeJoint">
      <hardwareInterface>hardware_interface/EffortJointInterface</hardwareInterface>
    </joint>
    <actuator name="backRightmotor3">
      <hardwareInterface>hardware_interface/EffortJointInterface</hardwareInterface>
      <mechanicalReduction>1</mechanicalReduction>
    </actuator>
  </transmission>
  <!--Shin!-->
  <link name="backRightShin">
    <inertial>
      <mass value="0.3"/>
      <inertia ixx="1.1249999999999999e-05" ixy="0.0" ixz="0.0" iyy="0.00068625" iyz="0.0" izz="0.00068625"/>
    </inertial>
    <visual>
      <origin rpy="0 0 0" xyz="0 -0.08099999999999999 -0.0825"/>
      <axis xyz="0 0 0"/>
      <geometry>
        <cylinder length="0.165" radius="0.015"/>
      </geometry>
      <material name="Green">
        <color rgba="0 1 0 1"/>
      </material>
    </visual>
    <collision>
      <origin rpy="0 0 0" xyz="0 -0.08099999999999999 -0.0825"/>
      <axis xyz="0 0 0"/>
      <geometry>
        <cylinder length="0.165" radius="0.015"/>
      </geometry>
    </collision>
  </link>
  <joint name="backRightKneeToShin" type="fixed">
    <parent link="backRightKnee"/>
    <child link="backRightShin"/>
    <origin rpy="0 0 0" xyz="0 0 0"/>
  </joint>
  <!--FOOOOOOT-->
  <link name="backRightFoot">
    <inertial>
      <mass value="0.126"/>
      <inertia ixx="2.1503999999999996e-05" ixy="0.0" ixz="0.0" iyy="2.1503999999999996e-05" iyz="0.0" izz="2.1503999999999996e-05"/>
    </inertial>
    <visual>
      <origin rpy="0 0 0" xyz="0 -0.08099999999999999 0"/>
      <geometry>
        <sphere radius="0.032"/>
      </geometry>
      <material name="Green">
        <color rgba="0 1 0 1"/>
      </material>
    </visual>
    <collision>
      <origin rpy="0 0 0" xyz="0 -0.08099999999999999 0"/>
      <geometry>
        <sphere radius="0.032"/>
      </geometry>
    </collision>
  </link>
  <gazebo reference="backRightShin">
    <kp>1000000.0</kp>
    <kd>1.0</kd>
    <mu1>.8</mu1>
    <mu2>.8</mu2>
    <maxVel>0.0</maxVel>
    <minDepth>0.003</minDepth>
  </gazebo>
  <joint name="backRightShinToFoot" type="fixed">
    <parent link="backRightShin"/>
    <child link="backRightFoot"/>
    <origin rpy="0 0 0.016" xyz="0 0 -0.181"/>
  </joint>
  <!--prefix is the legnumber, xReflext is  a 1 or -1 and same with yReflect this just mkaes it swtich locations for all 4 quadrents but why are you reading this is you arent me, if youre this deep in you got yourself in trouble run before its too late... I mean seriously I am writing an essay here stop scrolling to the side just keep reading the code and ignore the comments or I guess this one, some are helpful this one was until you got too nosy-->
  <link name="backLeftHipBoxJointBearing">
    <inertial>
      <mass value="0.001"/>
      <inertia ixx="1.5e-07" ixy="0.0" ixz="0.0" iyy="2.0833333333333333e-07" iyz="0.0" izz="2.0833333333333333e-07"/>
    </inertial>
    <visual>
      <origin rpy="0 1.5809  0" xyz="-0.151 0.102 0"/>
      <axis xyz="0 0 0"/>
      <geometry>
        <cylinder length="0.04" radius="0.03"/>
      </geometry>
      <material name="Cyan1">
        <color rgba="0.3 0.15 0.9 1.0"/>
      </material>
    </visual>
    <collision>
      <origin rpy="0 1.5809  0" xyz="-0.151 0.102 0"/>
      <axis xyz="0 0 0"/>
      <geometry>
        <cylinder length="0.04" radius="0.03"/>
      </geometry>
    </collision>
  </link>
  <joint name="backLeftBodyHipBoxFixedBearing" type="fixed">
    <parent link="dogBodyCross"/>
    <child link="backLeftHipBoxJointBearing"/>
    <origin rpy="0 0 0" xyz="0 0 0"/>
  </joint>
  <!--X rotator allows for internal and external rotation-->
  <link name="backLeftHipRotateX">
    <inertial>
      <mass value="0.3"/>
      <inertia ixx="4.4999999999999996e-05" ixy="0.0" ixz="0.0" iyy="0.00028259999999999993" iyz="0.0" izz="0.00028259999999999993"/>
    </inertial>
    <visual>
      <origin rpy="0 1.5809 0" xyz="-0.242 0 0"/>
      <axis xyz="0 0 0"/>
      <geometry>
        <cylinder length="0.102" radius="0.03"/>
      </geometry>
      <material name="Cyan1">
        <color rgba="0.3 0.15 0.9 1.0"/>
      </material>
    </visual>
    <collision>
      <origin rpy="0 1.5809 0" xyz="-0.242 0 0"/>
      <axis xyz="0 0 0"/>
      <geometry>
        <cylinder length="0.102" radius="0.03"/>
      </geometry>
    </collision>
  </link>
  <!--Joint from This Bone to the Main Body-->
  <joint name="backLeftHipRotateXJoint" type="revolute">
    <parent link="backLeftHipBoxJointBearing"/>
    <child link="backLeftHipRotateX"/>
    <origin rpy="0 0 0" xyz="0 0.102 0"/>
    <axis xyz="1 0 0"/>
    <limit effort="150" lower="-3.14159265359" upper="3.14159265359" velocity="1.5"/>
    <sensor name="backLeftHipRotateXJoint_torque" type="force_torque">
      <update_rate>30</update_rate>
    </sensor>
  </joint>
  <!--GazeboControls-->
  <transmission name="backLefttran1">
    <type>transmission_interface/SimpleTransmission</type>
    <joint name="backLeftHipRotateXJoint">
      <hardwareInterface>hardware_interface/EffortJointInterface</hardwareInterface>
    </joint>
    <actuator name="backLeftmotor1">
      <hardwareInterface>hardware_interface/EffortJointInterface</hardwareInterface>
      <mechanicalReduction>1</mechanicalReduction>
    </actuator>
  </transmission>
  <!--Time to construct the hip box, makes me want to throw thousands into the march madness tournament, it will end differently this time I swear, massive value in the next Kentucky points over-->
  <!--Y block-->
  <link name="backLeftHipYBlock">
    <inertial>
      <mass value="0.001"/>
      <inertia ixx="1.5e-07" ixy="0.0" ixz="0.0" iyy="3.7499999999999996e-07" iyz="0.0" izz="3.7499999999999996e-07"/>
    </inertial>
    <visual>
      <origin rpy="1.5809 0 0" xyz="-0.253 0 0"/>
      <axis xyz="0 0 0"/>
      <geometry>
        <cylinder length="0.06" radius="0.03"/>
      </geometry>
      <material name="Cyan1">
        <color rgba="0.3 0.15 0.9 1.0"/>
      </material>
    </visual>
    <collision>
      <origin rpy="0 0 0" xyz="-0.253 0 0"/>
      <axis xyz="0 0 0"/>
      <geometry>
        <cylinder length="0.06" radius="0.03"/>
      </geometry>
    </collision>
  </link>
  <joint name="backLeftBodyHipBoxYAttach" type="fixed">
    <parent link="backLeftHipRotateX"/>
    <child link="backLeftHipYBlock"/>
    <origin rpy="0 0 0" xyz="0 0 0"/>
  </joint>
  <!--Y rotator allows for elevation and declanation rotation-->
  <link name="backLeftHipRotateY">
    <inertial>
      <mass value="0.5"/>
      <inertia ixx="7.5e-05" ixy="0.0" ixz="0.0" iyy="0.0012701666666666664" iyz="0.0" izz="0.0012701666666666664"/>
    </inertial>
    <visual>
      <origin rpy="1.5809 0 0" xyz="0 0.03 0"/>
      <axis xyz="0 0 0"/>
      <geometry>
        <cylinder length="0.172" radius="0.03"/>
      </geometry>
      <material name="Cyan1">
        <color rgba="0.3 0.15 0.9 1.0"/>
      </material>
    </visual>
    <collision>
      <origin rpy="1.5809 0 0" xyz="0 0.03 0"/>
      <axis xyz="0 0 0"/>
      <geometry>
        <cylinder length="0.102" radius="0.03"/>
      </geometry>
    </collision>
  </link>
  <joint name="backLeftHipRotateYJoint" type="revolute">
    <origin rpy="0 0 0" xyz="-0.253 0.051 0"/>
    <parent link="backLeftHipYBlock"/>
    <child link="backLeftHipRotateY"/>
    <axis xyz="0 1 0"/>
    <limit effort="150" lower="-3.14159265359" upper="3.14159265359" velocity="1.5"/>
    <sensor name="backLeftHipRotateYJoint_torque" type="force_torque">
      <update_rate>30</update_rate>
    </sensor>
  </joint>
  <!--GazeboControls-->
  <transmission name="backLefttran2">
    <type>transmission_interface/SimpleTransmission</type>
    <joint name="backLeftHipRotateYJoint">
      <hardwareInterface>hardware_interface/EffortJointInterface</hardwareInterface>
    </joint>
    <actuator name="backLeftmotor2">
      <hardwareInterface>hardware_interface/EffortJointInterface</hardwareInterface>
      <mechanicalReduction>1</mechanicalReduction>
    </actuator>
  </transmission>
  <!--  hip bone is like the femur   -->
  <link name="backLeftFemur">
    <inertial>
      <mass value="0.3"/>
      <inertia ixx="6.125e-05" ixy="0.0" ixz="0.0" iyy="0.00106085" iyz="0.0" izz="0.00106085"/>
    </inertial>
    <visual>
      <origin rpy="0 0 0" xyz="0 0.08099999999999999 -0.1015"/>
      <axis xyz="0 0 0"/>
      <geometry>
        <cylinder length="0.203" radius="0.035"/>
      </geometry>
      <material name="Cyan2">
        <color rgba="0.4 0.2 0.9 1.0"/>
      </material>
    </visual>
    <collision>
      <origin rpy="0 0 0" xyz="0 0.08099999999999999 -0.1015"/>
      <axis xyz="0 0 0"/>
      <geometry>
        <cylinder length="0.203" radius="0.035"/>
      </geometry>
    </collision>
  </link>
  <joint name="backLeftFemurToHip" type="fixed">
    <parent link="backLeftHipRotateY"/>
    <child link="backLeftFemur"/>
    <origin rpy="0 0 0" xyz="0 0 0"/>
  </joint>
  <!--knee clevis-->
  <link name="backLeftKneeClevis">
    <inertial>
      <mass value="0.0001"/>
      <inertia ixx="1.5e-08" ixy="0.0" ixz="0.0" iyy="1.2918750000000001e-08" iyz="0.0" izz="1.2918750000000001e-08"/>
    </inertial>
    <visual>
      <origin rpy="1.5809 0 0" xyz="0 0.14475000000000002 -0.203"/>
      <axis xyz="0 0 0"/>
      <geometry>
        <cylinder length="0.0255" radius="0.03"/>
      </geometry>
      <material name="Cyan1">
        <color rgba="0.3 0.15 0.9 1.0"/>
      </material>
    </visual>
    <collision>
      <origin rpy="1.5809 0 0" xyz="0 0.14475000000000002 -0.203"/>
      <axis xyz="0 0 0"/>
      <geometry>
        <cylinder length="0.0255" radius="0.03"/>
      </geometry>
    </collision>
  </link>
  <joint name="backLeftKneeClevisFix" type="fixed">
    <origin rpy="0 0 0" xyz="0 0 0"/>
    <parent link="backLeftFemur"/>
    <child link="backLeftKneeClevis"/>
  </joint>
  <!--knee!-->
  <link name="backLeftKnee">
    <inertial>
      <mass value="0.01"/>
      <inertia ixx="1.4999999999999998e-06" ixy="0.0" ixz="0.0" iyy="9.419999999999998e-06" iyz="0.0" izz="9.419999999999998e-06"/>
    </inertial>
    <visual>
      <origin rpy="1.5809 0 0" xyz="0 0.08099999999999999 0"/>
      <axis xyz="0 0 0"/>
      <geometry>
        <cylinder length="0.102" radius="0.03"/>
      </geometry>
      <material name="Cyan1">
        <color rgba="0.3 0.15 0.9 1.0"/>
      </material>
    </visual>
    <collision>
      <origin rpy="1.5809 0 0" xyz="0 0.08099999999999999 0"/>
      <axis xyz="0 0 0"/>
      <geometry>
        <cylinder length="0.102" radius="0.03"/>
      </geometry>
    </collision>
  </link>
  <joint name="backLeftKneeJoint" type="revolute">
    <origin rpy="0 0 0" xyz="0 0 -0.203"/>
    <parent link="backLeftKneeClevis"/>
    <child link="backLeftKnee"/>
    <axis xyz="0 1 0"/>
    <limit effort="150" lower="-3.14159265359" upper="3.14159265359" velocity="1.5"/>
    <sensor name="backLeftKneeJoint_torque" type="force_torque">
      <update_rate>30</update_rate>
    </sensor>
  </joint>
  <!--GazeboControls-->
  <transmission name="backLefttran3">
    <type>transmission_interface/SimpleTransmission</type>
    <joint name="backLeftKneeJoint">
      <hardwareInterface>hardware_interface/EffortJointInterface</hardwareInterface>
    </joint>
    <actuator name="backLeftmotor3">
      <hardwareInterface>hardware_interface/EffortJointInterface</hardwareInterface>
      <mechanicalReduction>1</mechanicalReduction>
    </actuator>
  </transmission>
  <!--Shin!-->
  <link name="backLeftShin">
    <inertial>
      <mass value="0.3"/>
      <inertia ixx="1.1249999999999999e-05" ixy="0.0" ixz="0.0" iyy="0.00068625" iyz="0.0" izz="0.00068625"/>
    </inertial>
    <visual>
      <origin rpy="0 0 0" xyz="0 0.08099999999999999 -0.0825"/>
      <axis xyz="0 0 0"/>
      <geometry>
        <cylinder length="0.165" radius="0.015"/>
      </geometry>
      <material name="Green">
        <color rgba="0 1 0 1"/>
      </material>
    </visual>
    <collision>
      <origin rpy="0 0 0" xyz="0 0.08099999999999999 -0.0825"/>
      <axis xyz="0 0 0"/>
      <geometry>
        <cylinder length="0.165" radius="0.015"/>
      </geometry>
    </collision>
  </link>
  <joint name="backLeftKneeToShin" type="fixed">
    <parent link="backLeftKnee"/>
    <child link="backLeftShin"/>
    <origin rpy="0 0 0" xyz="0 0 0"/>
  </joint>
  <!--FOOOOOOT-->
  <link name="backLeftFoot">
    <inertial>
      <mass value="0.126"/>
      <inertia ixx="2.1503999999999996e-05" ixy="0.0" ixz="0.0" iyy="2.1503999999999996e-05" iyz="0.0" izz="2.1503999999999996e-05"/>
    </inertial>
    <visual>
      <origin rpy="0 0 0" xyz="0 0.08099999999999999 0"/>
      <geometry>
        <sphere radius="0.032"/>
      </geometry>
      <material name="Green">
        <color rgba="0 1 0 1"/>
      </material>
    </visual>
    <collision>
      <origin rpy="0 0 0" xyz="0 0.08099999999999999 0"/>
      <geometry>
        <sphere radius="0.032"/>
      </geometry>
    </collision>
  </link>
  <gazebo reference="backLeftShin">
    <kp>1000000.0</kp>
    <kd>1.0</kd>
    <mu1>.8</mu1>
    <mu2>.8</mu2>
    <maxVel>0.0</maxVel>
    <minDepth>0.003</minDepth>
  </gazebo>
  <joint name="backLeftShinToFoot" type="fixed">
    <parent link="backLeftShin"/>
    <child link="backLeftFoot"/>
    <origin rpy="0 0 0.016" xyz="0 0 -0.181"/>
  </joint>
  <gazebo>
    <plugin filename="libgazebo_ros_control.so" name="gazebo_ros_control">
      <legacyModeNS>true</legacyModeNS>
    </plugin>
  </gazebo>
  <link name="hokuyo_frame">
    <inertial>
      <mass value="0.270"/>
      <origin rpy="0 0 0" xyz="0 0 0"/>
      <inertia ixx="2.632e-4" ixy="0" ixz="0" iyy="2.632e-4" iyz="0" izz="1.62e-4"/>
    </inertial>
    <visual>
      <origin rpy="0 0 0" xyz="0 0 0"/>
      <geometry>
        <mesh filename="package://hector_sensors_description/meshes/hokuyo_utm30lx/hokuyo_utm_30lx.dae"/>
      </geometry>
    </visual>
    <collision>
      <origin rpy="0 0 0" xyz="0 0 -0.0115"/>
      <geometry>
        <box size="0.058 0.058 0.087"/>
        <!--<mesh filename="package://hector_sensors_description/meshes/hokuyo_utm30lx/hokuyo_utm_30lx.stl"/>-->
      </geometry>
    </collision>
  </link>
  <joint name="hokuyo_joint" type="fixed">
    <origin rpy="0 0 0" xyz="0.4 0.0 0.2"/>
    <parent link="base_link"/>
    <child link="hokuyo_frame"/>
  </joint>
  <gazebo reference="hokuyo_frame">
    <sensor name="hokuyo" type="ray">
      <always_on>true</always_on>
      <update_rate>30</update_rate>
      <pose>0 0 0 0 0 0</pose>
      <visualize>false</visualize>
      <ray>
        <scan>
          <horizontal>
            <samples>1040</samples>
            <resolution>1</resolution>
            <min_angle>2.26892802759</min_angle>
            <max_angle>-2.26892802759</max_angle>
          </horizontal>
        </scan>
        <range>
          <min>0.2</min>
          <max>30.0</max>
          <resolution>0.01</resolution>
        </range>
        <noise>
          <type>gaussian</type>
          <mean>0.0</mean>
          <stddev>0.004</stddev>
        </noise>
      </ray>
      <plugin filename="libgazebo_ros_laser.so" name="gazebo_ros_hokuyo_controller">
        <topicName>scan</topicName>
        <frameName>hokuyo_frame</frameName>
      </plugin>
    </sensor>
  </gazebo>
  <joint name="camera_joint" type="fixed">
    <origin rpy="0 0 0" xyz="0.45 0.0 .1"/>
    <parent link="base_link"/>
    <child link="camera_link"/>
  </joint>
  <link name="camera_link">
    <inertial>
      <mass value="0.200"/>
      <origin rpy="0 0 0" xyz="0 0 0"/>
      <inertia ixx="5.8083e-4" ixy="0" ixz="0" iyy="3.0833e-5" iyz="0" izz="5.9083e-4"/>
    </inertial>
    <visual>
      <origin rpy="0 0 0" xyz="0 0 0"/>
      <geometry>
        <mesh filename="package://hector_sensors_description/meshes/asus_camera/asus_camera_simple.dae"/>
      </geometry>
    </visual>
    <!--        
      <collision>
          <origin xyz="0 0 0" rpy="0 0 0" />
          <geometry>
              <box size="0.035 0.185 0.025"/>
          </geometry>
          </collision>
          -->
    <collision>
      <origin rpy="0 0 0" xyz="0 0 0"/>
      <geometry>
        <mesh filename="package://hector_sensors_description/meshes/asus_camera/asus_camera_simple.dae"/>
      </geometry>
    </collision>
  </link>
  <joint name="camera_depth_joint" type="fixed">
    <origin rpy="0 0 0" xyz="0.0 0.049 0.0"/>
    <parent link="camera_link"/>
    <child link="camera_depth_frame"/>
  </joint>
  <link name="camera_depth_frame"/>
  <joint name="camera_depth_optical_joint" type="fixed">
    <origin rpy="-1.57079632679 0.0 -1.57079632679" xyz="0 0 0"/>
    <parent link="camera_depth_frame"/>
    <child link="camera_depth_optical_frame"/>
  </joint>
  <link name="camera_depth_optical_frame"/>
  <joint name="camera_rgb_joint" type="fixed">
    <origin rpy="0 0 0" xyz="0.0 0.022 0.0"/>
    <parent link="camera_link"/>
    <child link="camera_rgb_frame"/>
  </joint>
  <link name="camera_rgb_frame"/>
  <joint name="camera_rgb_optical_joint" type="fixed">
    <origin rpy="-1.57079632679 0.0 -1.57079632679" xyz="0 0 0"/>
    <parent link="camera_rgb_frame"/>
    <child link="camera_rgb_optical_frame"/>
  </joint>
  <link name="camera_rgb_optical_frame"/>
  <!-- ASUS Xtion PRO camera for simulation -->
  <gazebo reference="camera_depth_frame">
    <sensor name="camera" type="depth">
      <update_rate>20</update_rate>
      <camera>
        <horizontal_fov>1.09606677025</horizontal_fov>
        <image>
          <format>R8G8B8</format>
          <width>640</width>
          <height>480</height>
        </image>
        <clip>
          <near>0.5</near>
          <far>9</far>
        </clip>
      </camera>
      <plugin filename="libgazebo_ros_openni_kinect.so" name="camera_camera_controller">
        <imageTopicName>camera/rgb/image_raw</imageTopicName>
        <cameraInfoTopicName>camera/rgb/camera_info</cameraInfoTopicName>
        <depthImageTopicName>camera/depth/image_raw</depthImageTopicName>
        <depthImageCameraInfoTopicName>camera/depth/camera_info</depthImageCameraInfoTopicName>
        <pointCloudTopicName>camera/depth/points</pointCloudTopicName>
        <frameName>camera_depth_optical_frame</frameName>
      </plugin>
    </sensor>
  </gazebo>
  <gazebo>
    <plugin filename="libhector_gazebo_ros_imu.so" name="imu_controller">
      <updateRate>50.0</updateRate>
      <bodyName>imu_link</bodyName>
      <topicName>imu/data</topicName>
      <accelDrift>0.005 0.005 0.005</accelDrift>
      <accelGaussianNoise>0.005 0.005 0.005</accelGaussianNoise>
      <rateDrift>0.005 0.005 0.005 </rateDrift>
      <rateGaussianNoise>0.005 0.005 0.005 </rateGaussianNoise>
      <headingDrift>0.005</headingDrift>
      <headingGaussianNoise>0.005</headingGaussianNoise>
    </plugin>
  </gazebo>
  <link name="imu_link">
    <inertial>
      <mass value="0.001"/>
      <origin rpy="0 0 0" xyz="0 0 0"/>
      <inertia ixx="1e-09" ixy="0.0" ixz="0.0" iyy="1e-09" iyz="0.0" izz="1e-09"/>
    </inertial>
  </link>
  <joint name="imu_joint" type="fixed">
    <parent link="base_link"/>
    <child link="imu_link"/>
  </joint>
  <gazebo>
    <plugin filename="libgazebo_ros_p3d.so" name="p3d_base_controller">
      <alwaysOn>true</alwaysOn>
      <updateRate>10.0</updateRate>
      <bodyName>base_link</bodyName>
      <topicName>odom/ground_truth</topicName>
      <gaussianNoise>0.01</gaussianNoise>
      <frameName>world</frameName>
      <xyzOffsets>0 0 0</xyzOffsets>
      <rpyOffsets>0 0 0</rpyOffsets>
    </plugin>
  </gazebo>
</robot>
